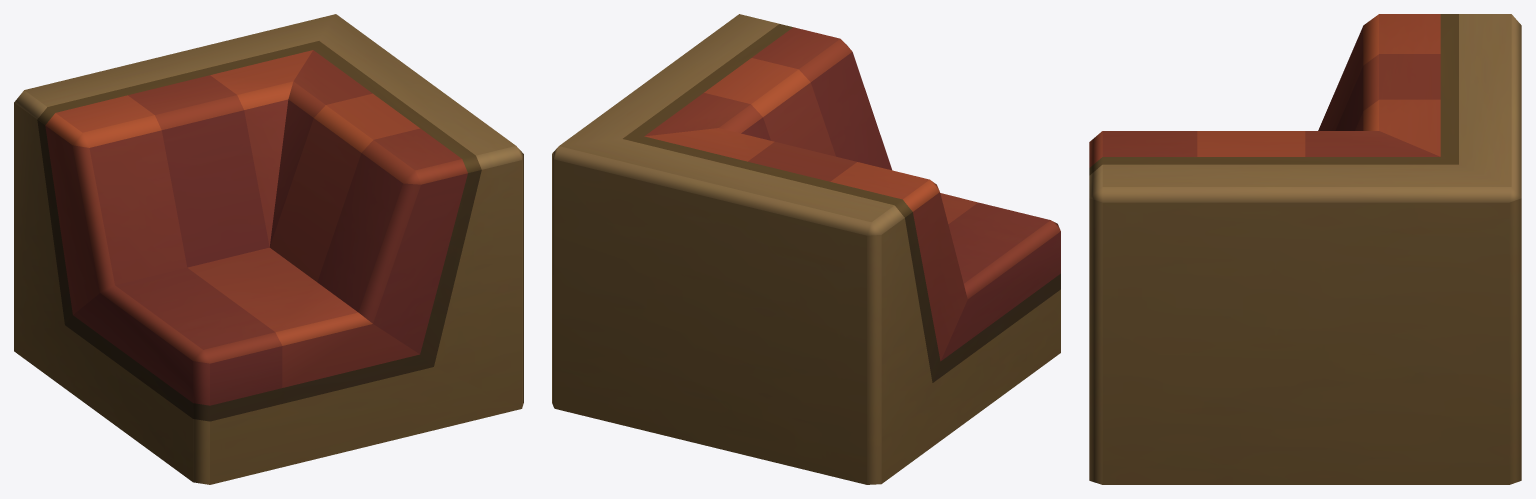
File: chair_roof_corner_conc_red.fbx
3 views of the same model, side by side, from view 1: azimuth 30°, elevation 25°; view 2: azimuth 150°, elevation 25°; view 3: azimuth 270°, elevation 25° (orthographic). The views are drawn at different scales.
Parts seen in each view (by area): view 1: chair_roof_corner_conc_red; view 2: chair_roof_corner_conc_red; view 3: chair_roof_corner_conc_red.
Boxes of the visible parts, box(x1,y1,x2,y2) form: chair_roof_corner_conc_red: box(14, 14, 523, 484); chair_roof_corner_conc_red: box(552, 14, 1060, 484); chair_roof_corner_conc_red: box(1089, 14, 1521, 484).
Bounding box in the file's own units: 100 × 75 × 100.
